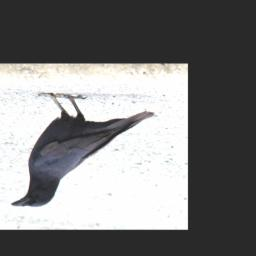Crow: (10, 93, 155, 208)
